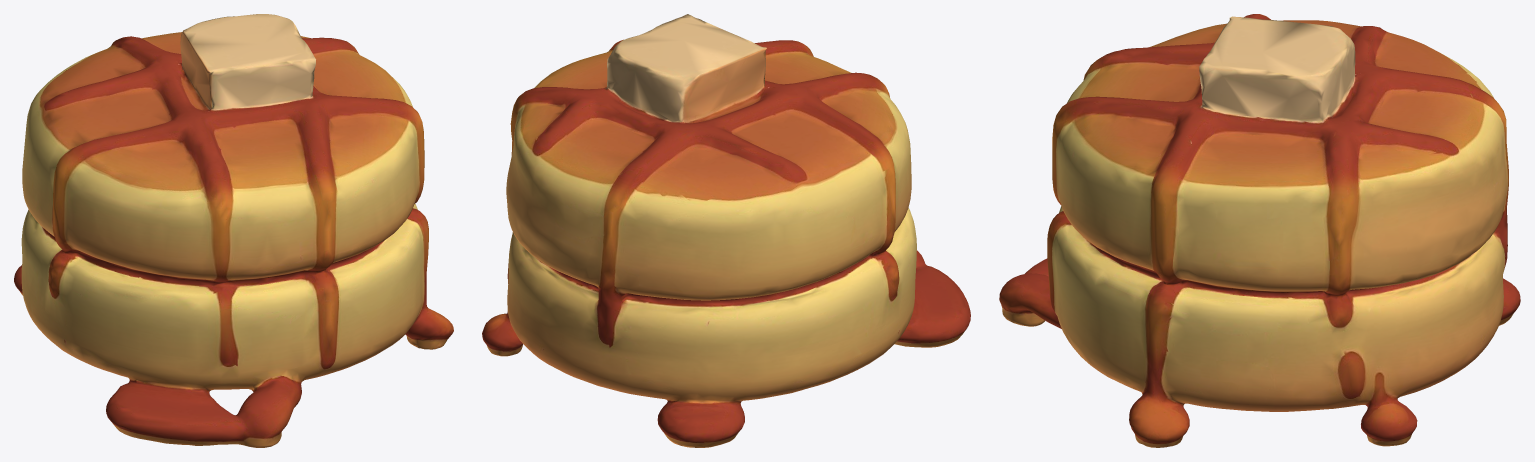
The model's file is food_pancakes.glb.
3 renders of one model, left to right at view 1: azimuth 30°, elevation 25°; view 2: azimuth 150°, elevation 25°; view 3: azimuth 270°, elevation 25°, orthographic. The views are drawn at different scales.
Visible parts, largest first — view 1: food_pancakes; view 2: food_pancakes; view 3: food_pancakes.
Part boxes in pixels (x1,y1,x2,y2): food_pancakes: (14, 14, 453, 447); food_pancakes: (482, 14, 970, 447); food_pancakes: (999, 14, 1520, 447).
Bounding box in the file's own units: 63.15 × 50 × 72.69.
Materials: 1 (1 with a texture image).
